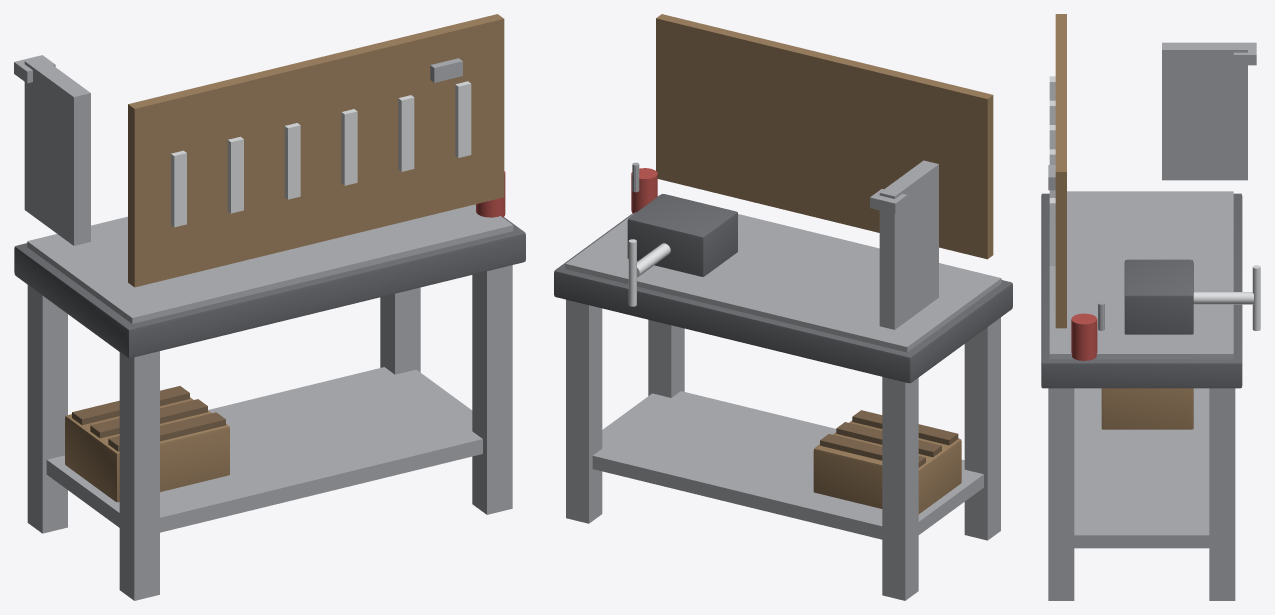
File: DD_repair_bench.fbx
3 views of the same model, side by side, from view 1: azimuth 30°, elevation 25°; view 2: azimuth 150°, elevation 25°; view 3: azimuth 270°, elevation 25° (orthographic). The views are drawn at different scales.
Parts seen in each view (by area): view 1: DD_repair_bench; view 2: DD_repair_bench; view 3: DD_repair_bench.
Boxes of the visible parts, x1,y1,x2,y2 form: DD_repair_bench: (14,14,525,600); DD_repair_bench: (554,14,1012,600); DD_repair_bench: (1041,14,1260,600).
Bounding box in the file's own units: 1.41 × 1.64 × 0.764.
